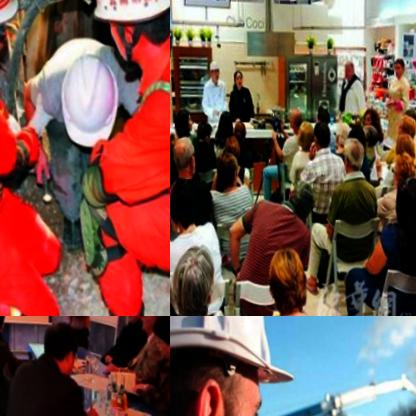head: (257, 245, 306, 316), (170, 247, 217, 316), (34, 316, 79, 378), (382, 178, 416, 242), (278, 180, 313, 221), (170, 178, 195, 234), (143, 316, 170, 364), (170, 135, 196, 182), (382, 151, 414, 188), (334, 133, 360, 176), (208, 150, 236, 189), (324, 118, 351, 148), (387, 134, 412, 164), (291, 120, 313, 152), (170, 106, 190, 140), (210, 108, 231, 140), (306, 121, 327, 151), (308, 101, 330, 128), (133, 316, 163, 335), (394, 113, 415, 139), (283, 106, 303, 133), (189, 119, 208, 145), (358, 104, 377, 128), (219, 135, 236, 161), (357, 124, 374, 148), (170, 131, 181, 165), (229, 120, 244, 142), (388, 57, 403, 78), (228, 67, 243, 88), (205, 60, 219, 82), (118, 316, 144, 326), (410, 150, 416, 192), (340, 60, 352, 78)
helmet: (170, 316, 311, 416), (38, 42, 129, 165), (74, 0, 170, 80)
